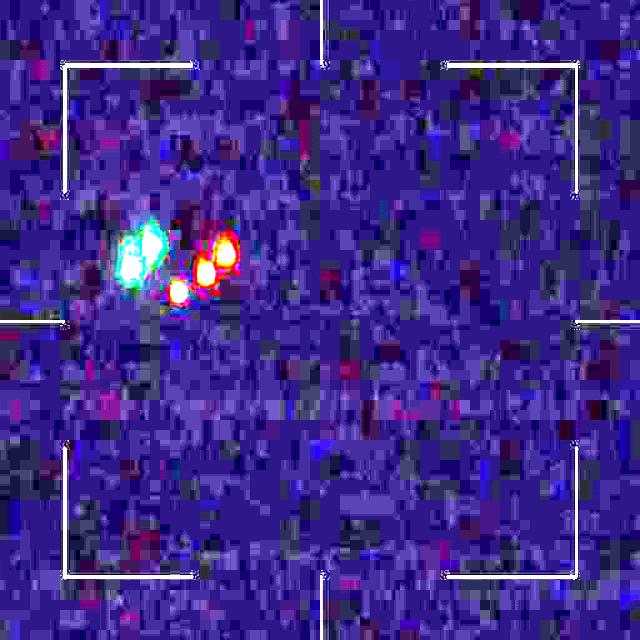bird: (120, 231, 239, 301)
